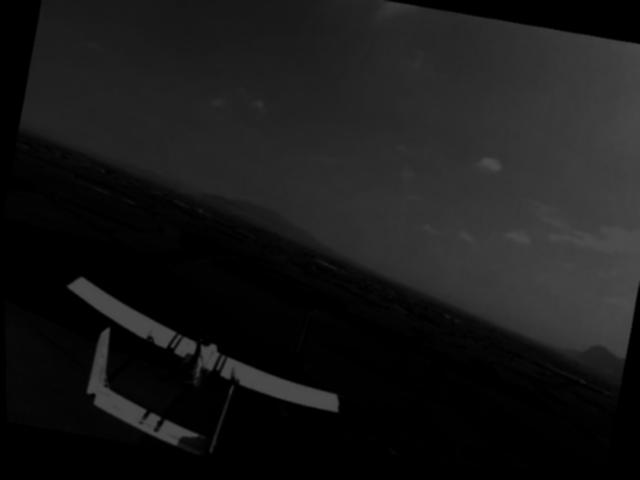hedef: (20, 248, 372, 480)
